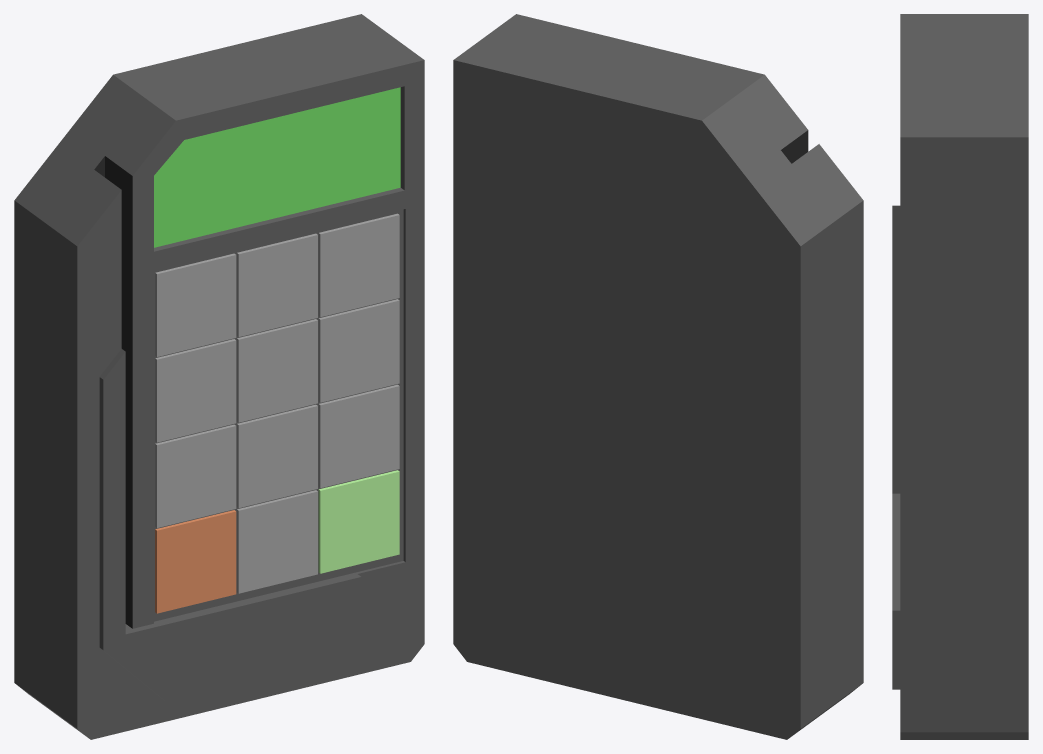
The model's file is DoorKeypad.fbx.
3 views of the same model, side by side, from view 1: azimuth 30°, elevation 25°; view 2: azimuth 150°, elevation 25°; view 3: azimuth 270°, elevation 25° (orthographic).
Parts seen in each view (by area): view 1: Keypad, Key_2, Key_6, Key_Cancel, Key_3, Key_5, Key_8, Key_0, Key_4, Key_7, Key_9, Key_Submit (+1 smaller); view 2: Keypad; view 3: Keypad.
Part boxes in pixels (box(x1,y1,x2,y2)): Keypad: box(14, 14, 424, 739); Key_2: box(236, 233, 317, 336); Key_6: box(318, 299, 399, 402); Key_Cancel: box(155, 510, 236, 613); Key_3: box(318, 213, 399, 317); Key_5: box(236, 319, 317, 422); Key_8: box(236, 404, 317, 507); Key_0: box(236, 490, 317, 593); Key_4: box(155, 339, 236, 442); Key_7: box(155, 424, 236, 527); Key_9: box(318, 384, 399, 488); Key_Submit: box(318, 470, 399, 573); Keypad: box(453, 14, 863, 739); Keypad: box(892, 14, 1028, 739).
Size of the model in its own units: 255 by 420 by 85.
